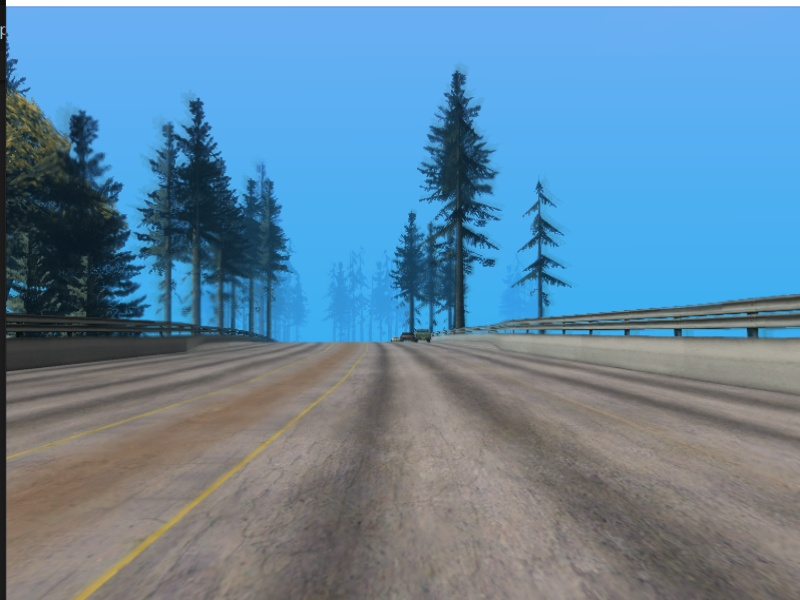vehicle: (412, 329, 434, 341)
